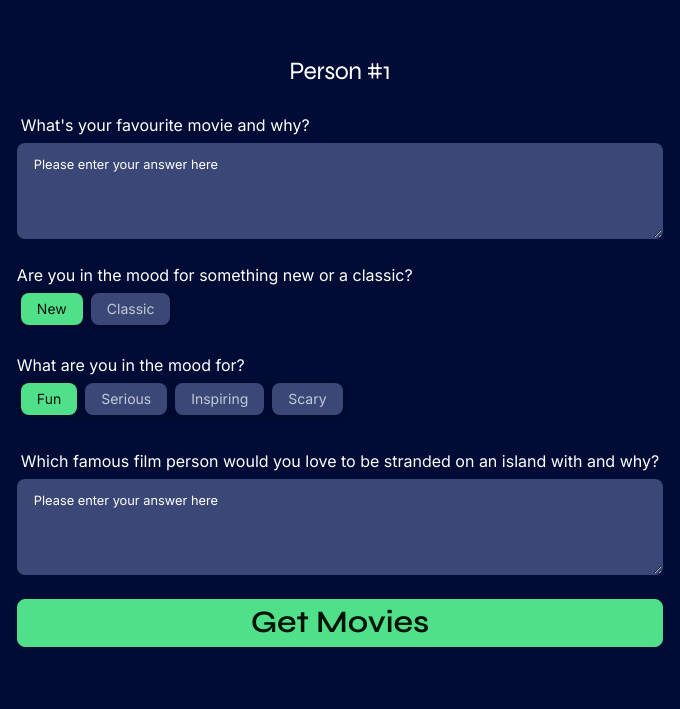
it: MovieForm › returns a validation error message when required fields are empty
Click the button "Get Movies": x=340, y=623 x1=17 y1=599 x2=663 y2=647
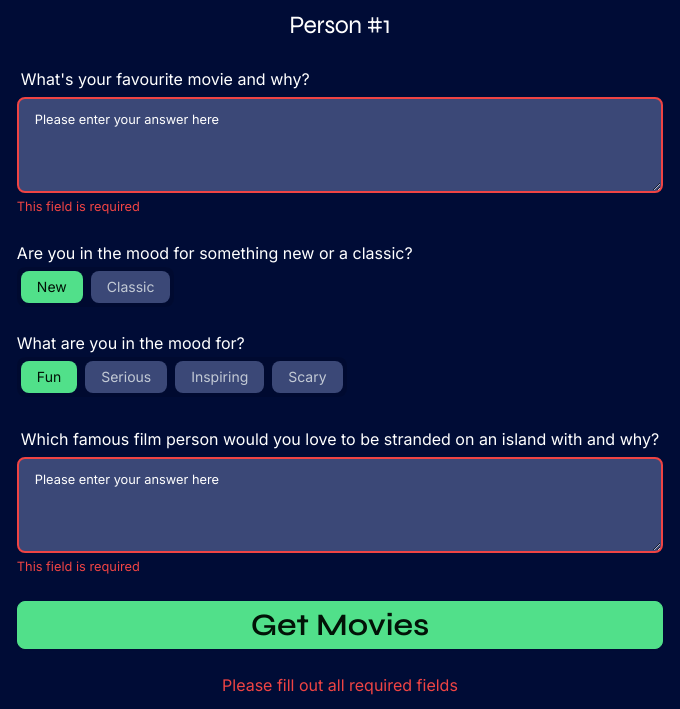
Check: the text "Please fill out all required fields" is shown, box x1=222 y1=675 x2=458 y2=695
